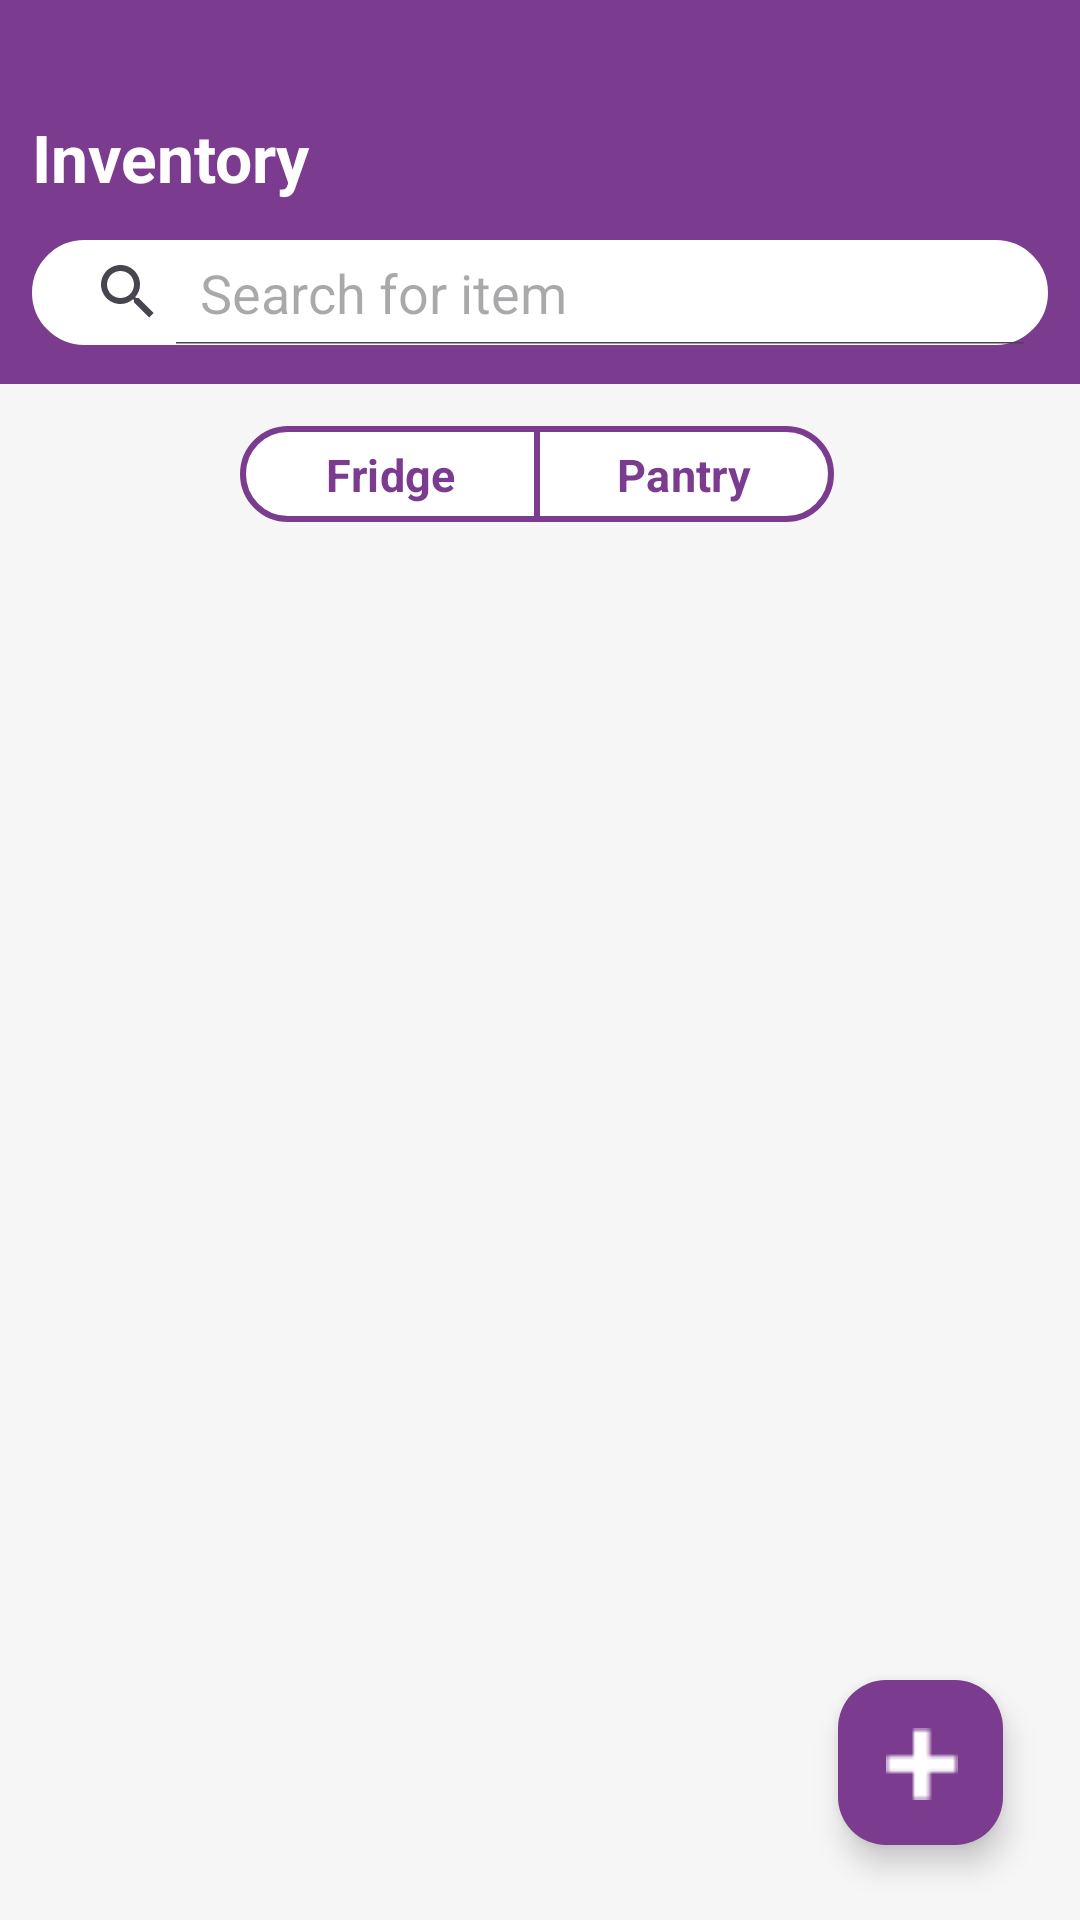

Named icons in this screenshot (1080*1920) and their centers, point (x, y):
add: point (920, 1762)
